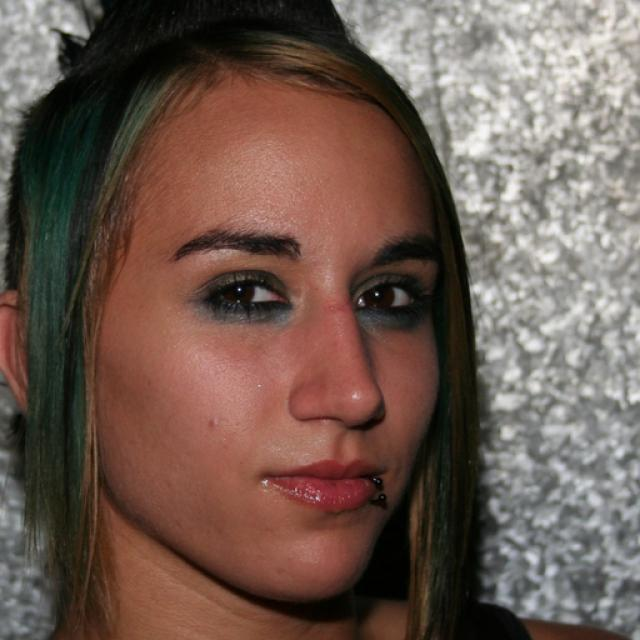content: (94, 59, 446, 594)
